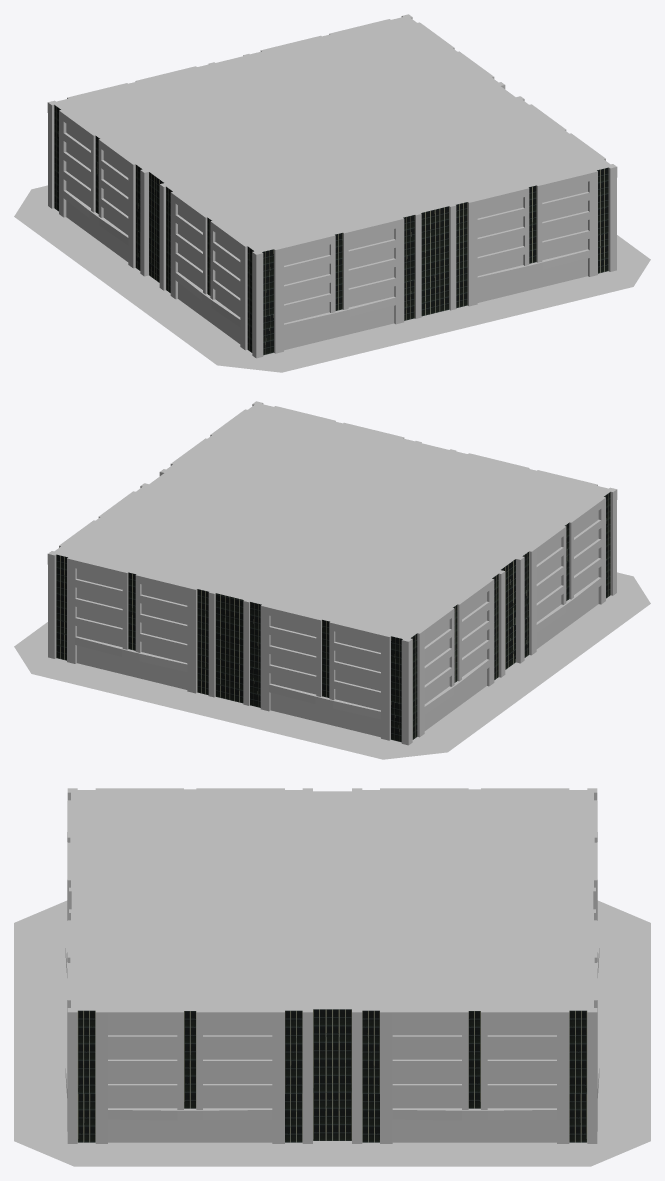
The picture shows the model from 3 angles, top to bottom: view 1: azimuth 30°, elevation 25°; view 2: azimuth 150°, elevation 25°; view 3: azimuth 270°, elevation 25°; orthographic projection. The views are drawn at different scales.
Parts seen in each view (by area): view 1: QD-06; view 2: QD-06; view 3: QD-06.
Part boxes in pixels (x1,y1,x2,y2): QD-06: (14, 14, 650, 372); QD-06: (14, 401, 650, 759); QD-06: (14, 788, 650, 1166).
Size of what is drawn, in the model's own units: 72 by 16.43 by 72.
